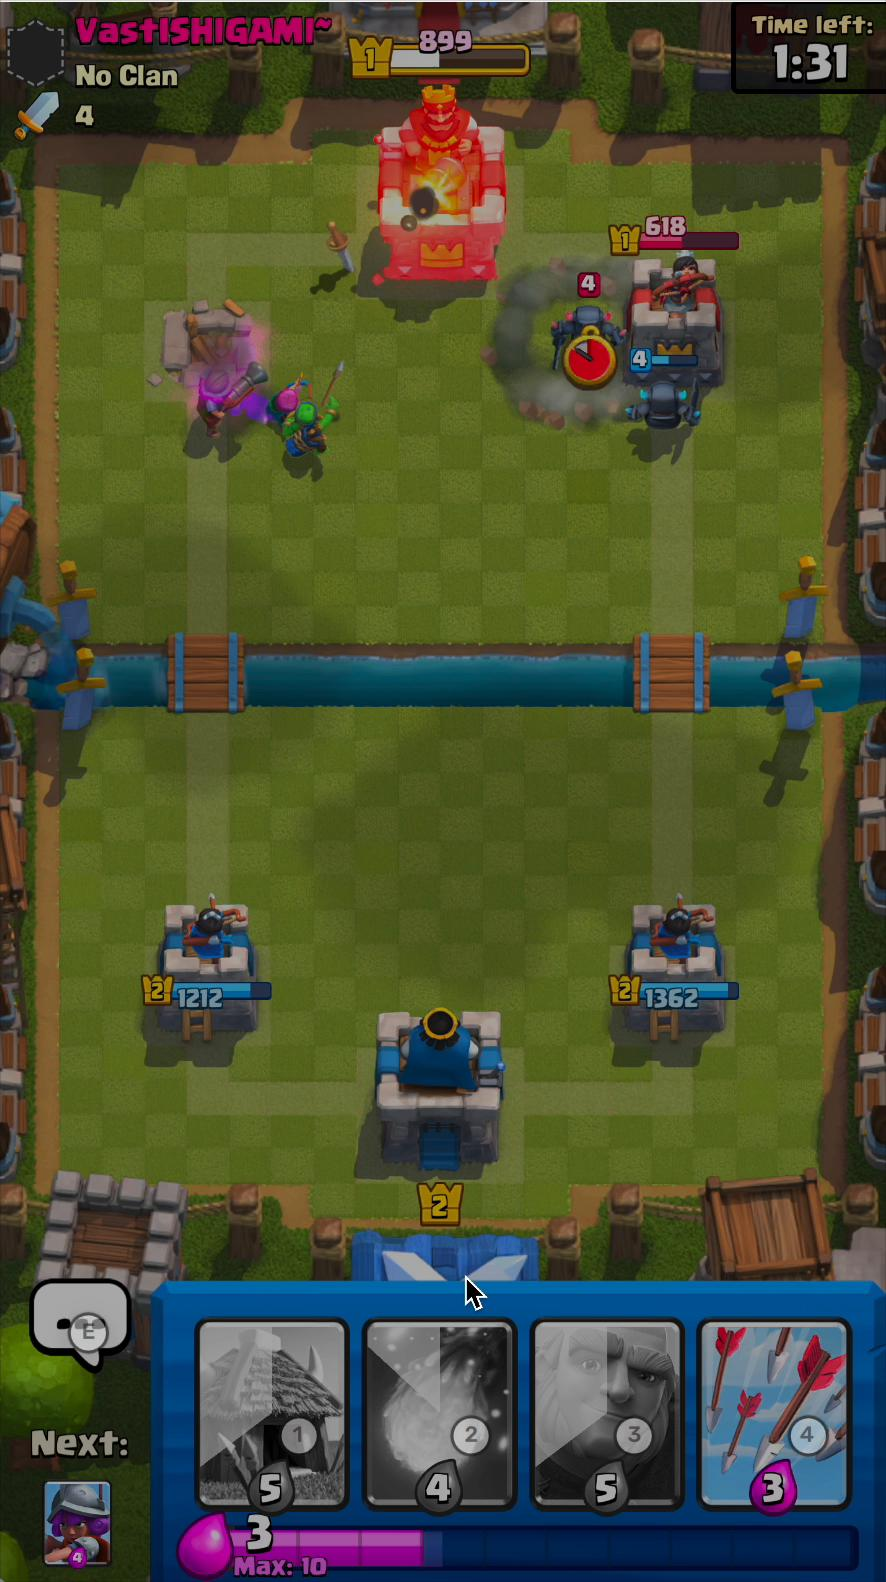archere: (259, 381, 329, 437)
gobelin_lances: (282, 400, 347, 468)
mini_PEKKA: (622, 366, 712, 449), (544, 309, 626, 373)
mousquetaire: (188, 363, 271, 442)
